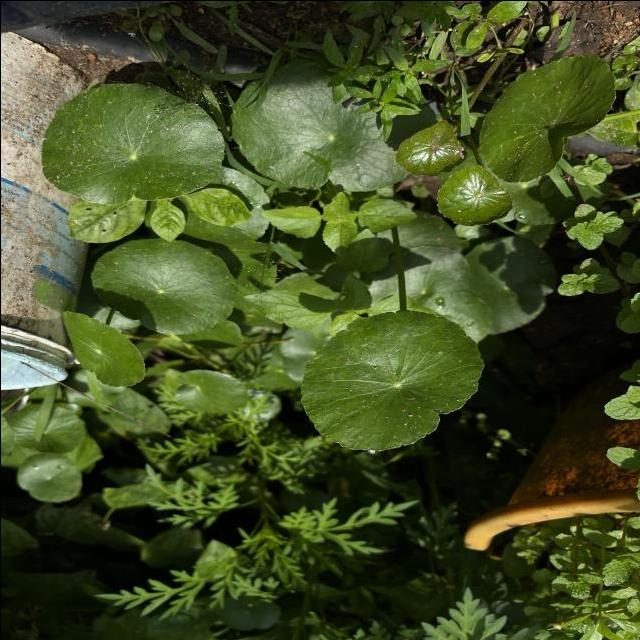Bacopa monnieri: (226, 59, 437, 192), (297, 306, 486, 454), (38, 82, 226, 206), (477, 51, 617, 183), (86, 235, 240, 338), (60, 307, 146, 389), (434, 162, 516, 228), (393, 118, 465, 180), (13, 451, 82, 503)
